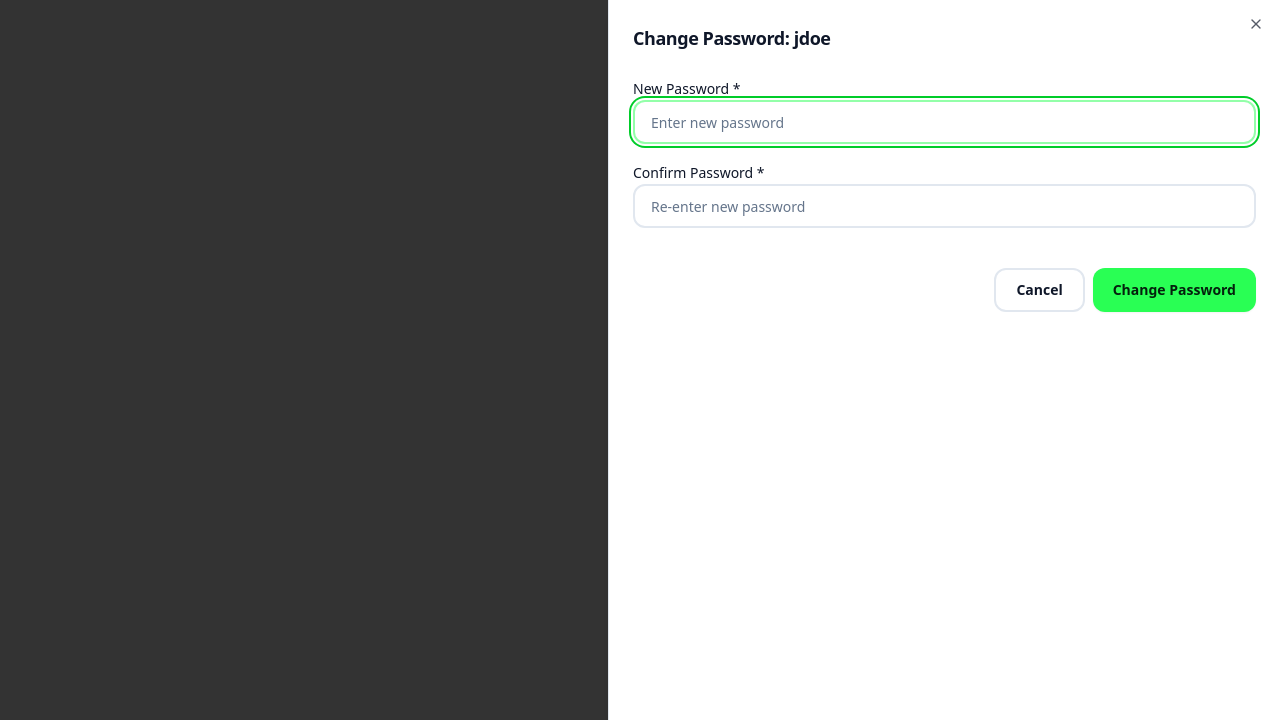
it: ChangePasswordDialog › should validate password requirements
The image size is (1280, 720).
Step 1. Type "weak" into the password field labelled "New Password *" → {"x": 944, "y": 122}, box [633, 100, 1256, 144]
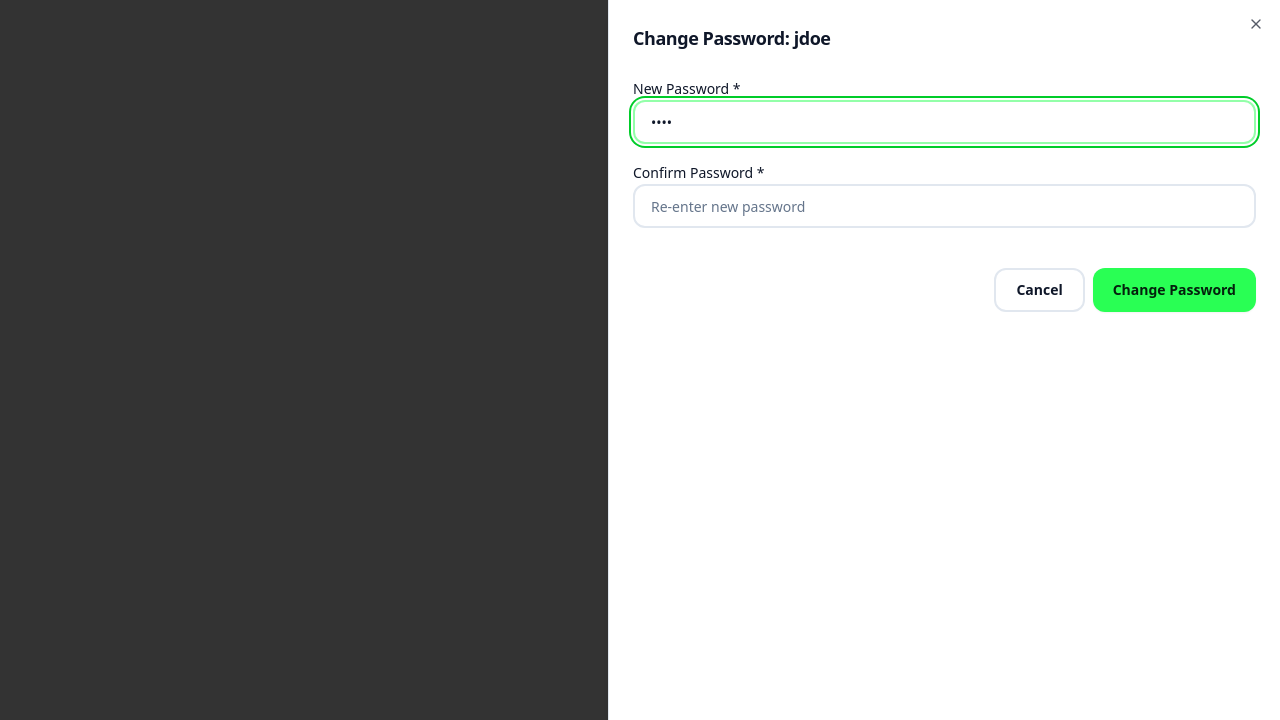
Step 2. Type "weak" into the password field labelled "Confirm Password *" → {"x": 944, "y": 206}, box [633, 184, 1256, 228]
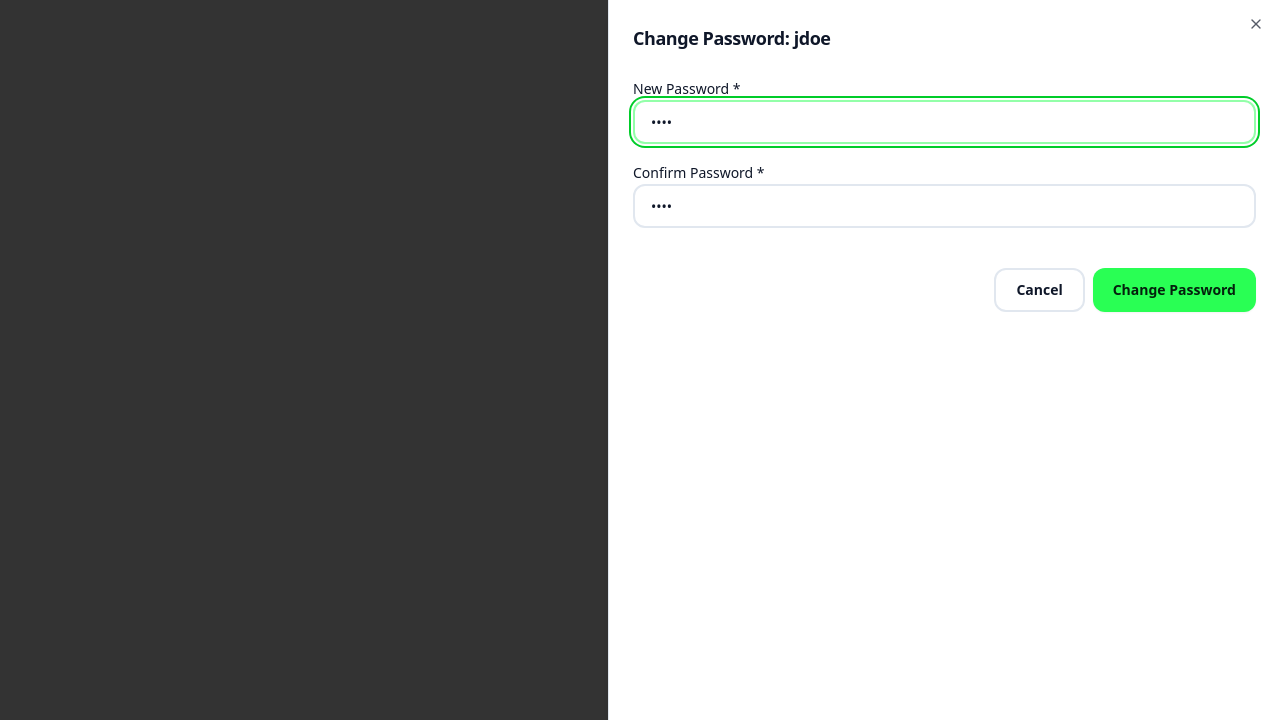
Step 3. Click the button "Change Password" → {"x": 1174, "y": 290}, box [1093, 268, 1256, 312]
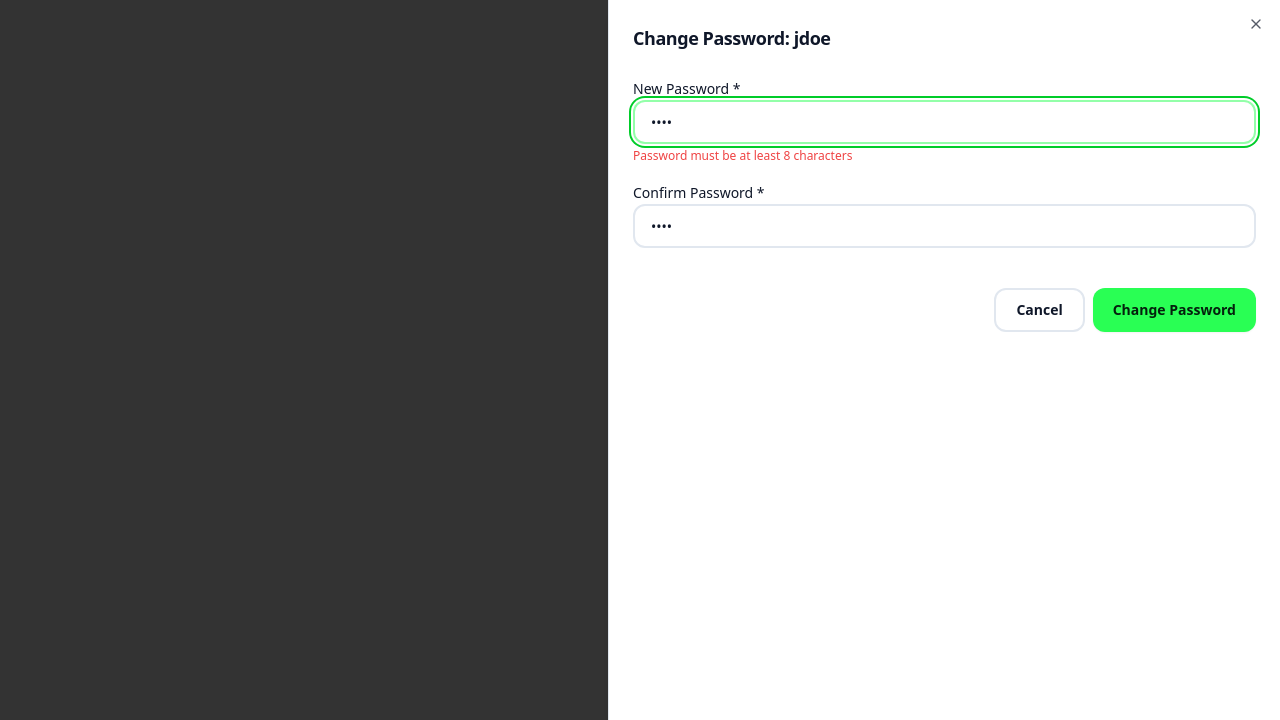
Now the text "Password must be at least 8 characters" is shown, box [633, 147, 852, 164]
